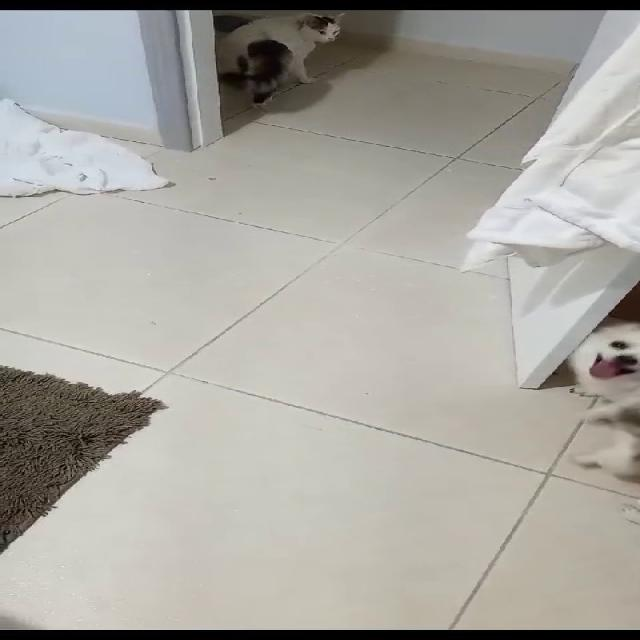Simba: (216, 14, 342, 107)
Theo: (562, 314, 639, 488)
